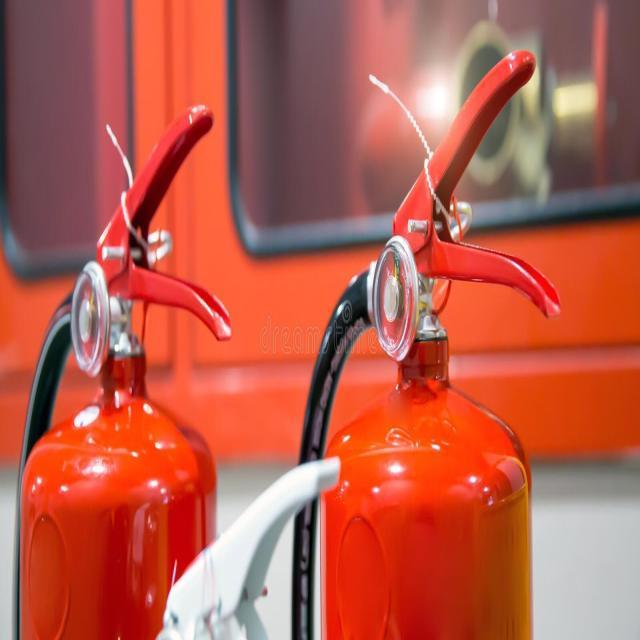fire_extinguisher: (286, 36, 568, 639), (5, 96, 236, 640)
